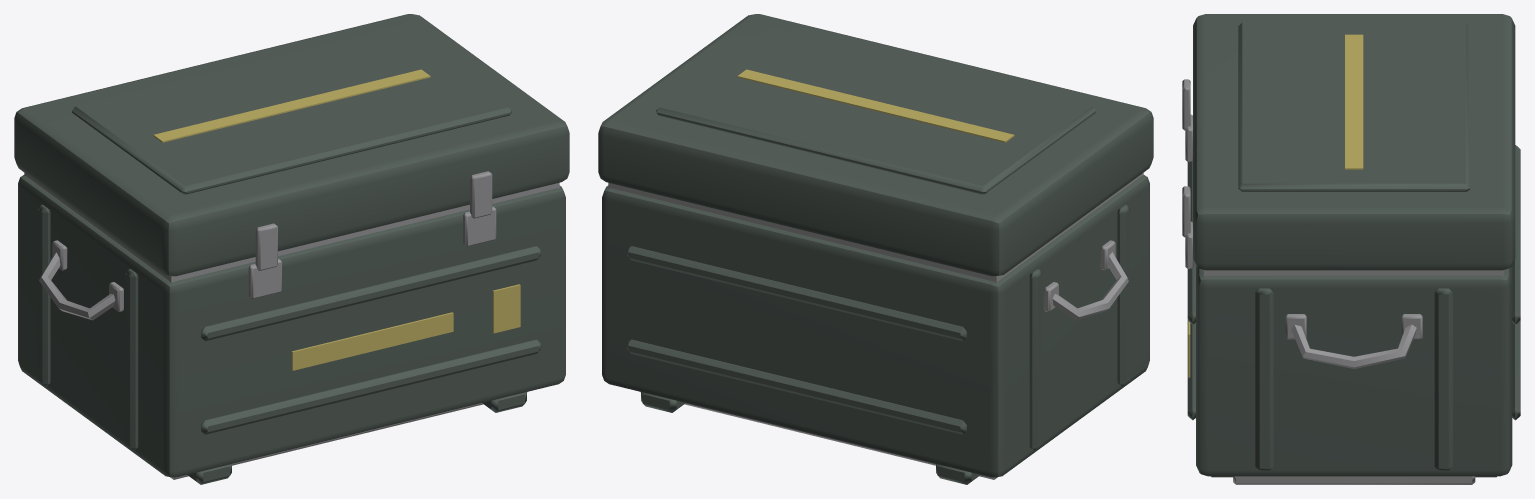
Rendered from kit_crate_small.glb.
3 views of the same model, side by side, from view 1: azimuth 30°, elevation 25°; view 2: azimuth 150°, elevation 25°; view 3: azimuth 270°, elevation 25° (orthographic). The views are drawn at different scales.
Visible parts, largest first — view 1: kit_crate_small_paint, kit_crate_small_metal, kit_crate_small_mark_paint; view 2: kit_crate_small_paint, kit_crate_small_metal, kit_crate_small_mark_paint; view 3: kit_crate_small_paint, kit_crate_small_metal, kit_crate_small_mark_paint.
Part boxes in pixels (x1,y1,x2,y2): kit_crate_small_paint: (14,14,569,484); kit_crate_small_metal: (24,171,559,479); kit_crate_small_mark_paint: (153,69,520,370); kit_crate_small_paint: (598,14,1153,484); kit_crate_small_metal: (608,173,1143,479); kit_crate_small_mark_paint: (737,69,1014,142); kit_crate_small_paint: (1187,14,1520,477); kit_crate_small_metal: (1182,79,1504,484); kit_crate_small_mark_paint: (1188,34,1363,377).
Size of the model in its own units: 1.04 by 0.619 by 0.642.
